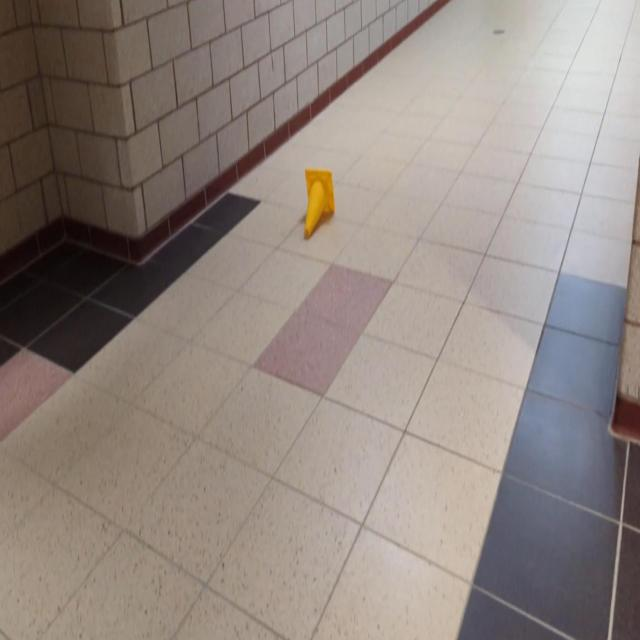frc_cone: (305, 169, 335, 240)
